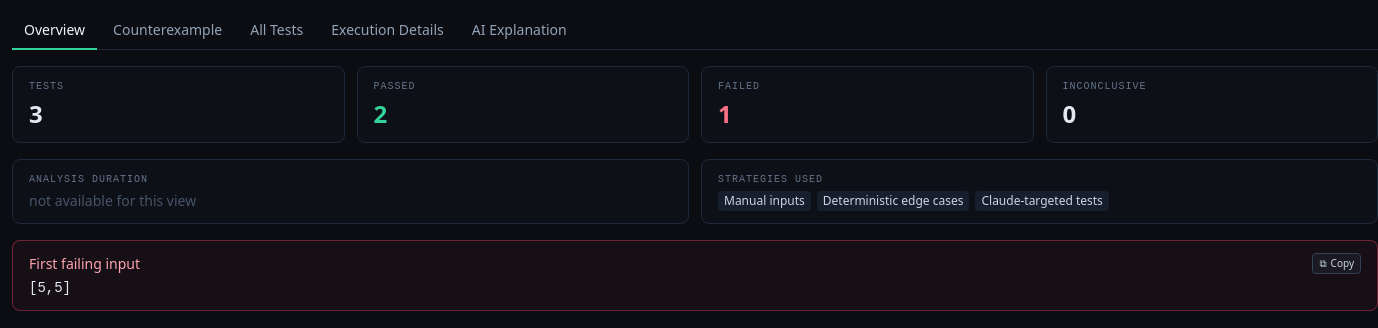
Test case: ResultsView › shows an empty explanation state when none is present
This screenshot has width=1378, height=328.
Click the tab "AI Explanation" at point(519, 31), box left=460, top=12, right=579, bottom=50
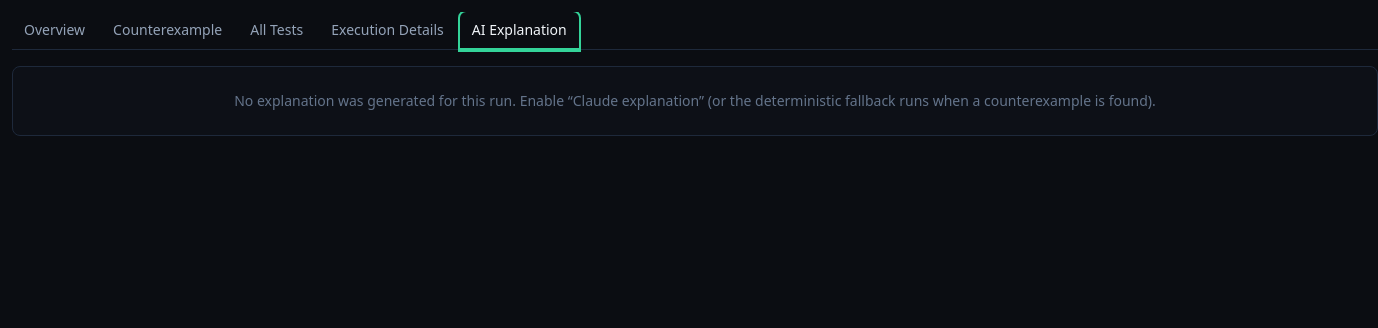
expect the text "No explanation was generated" is shown: met, box left=234, top=91, right=1156, bottom=110
